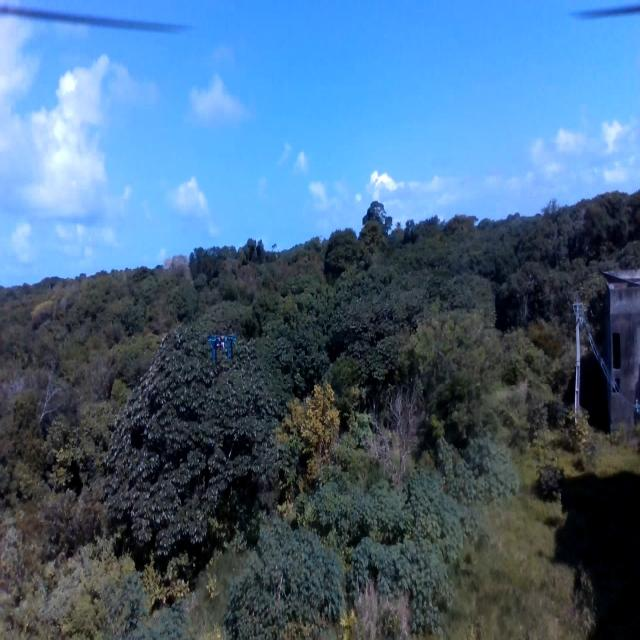-uav-: (202, 314, 250, 399)
